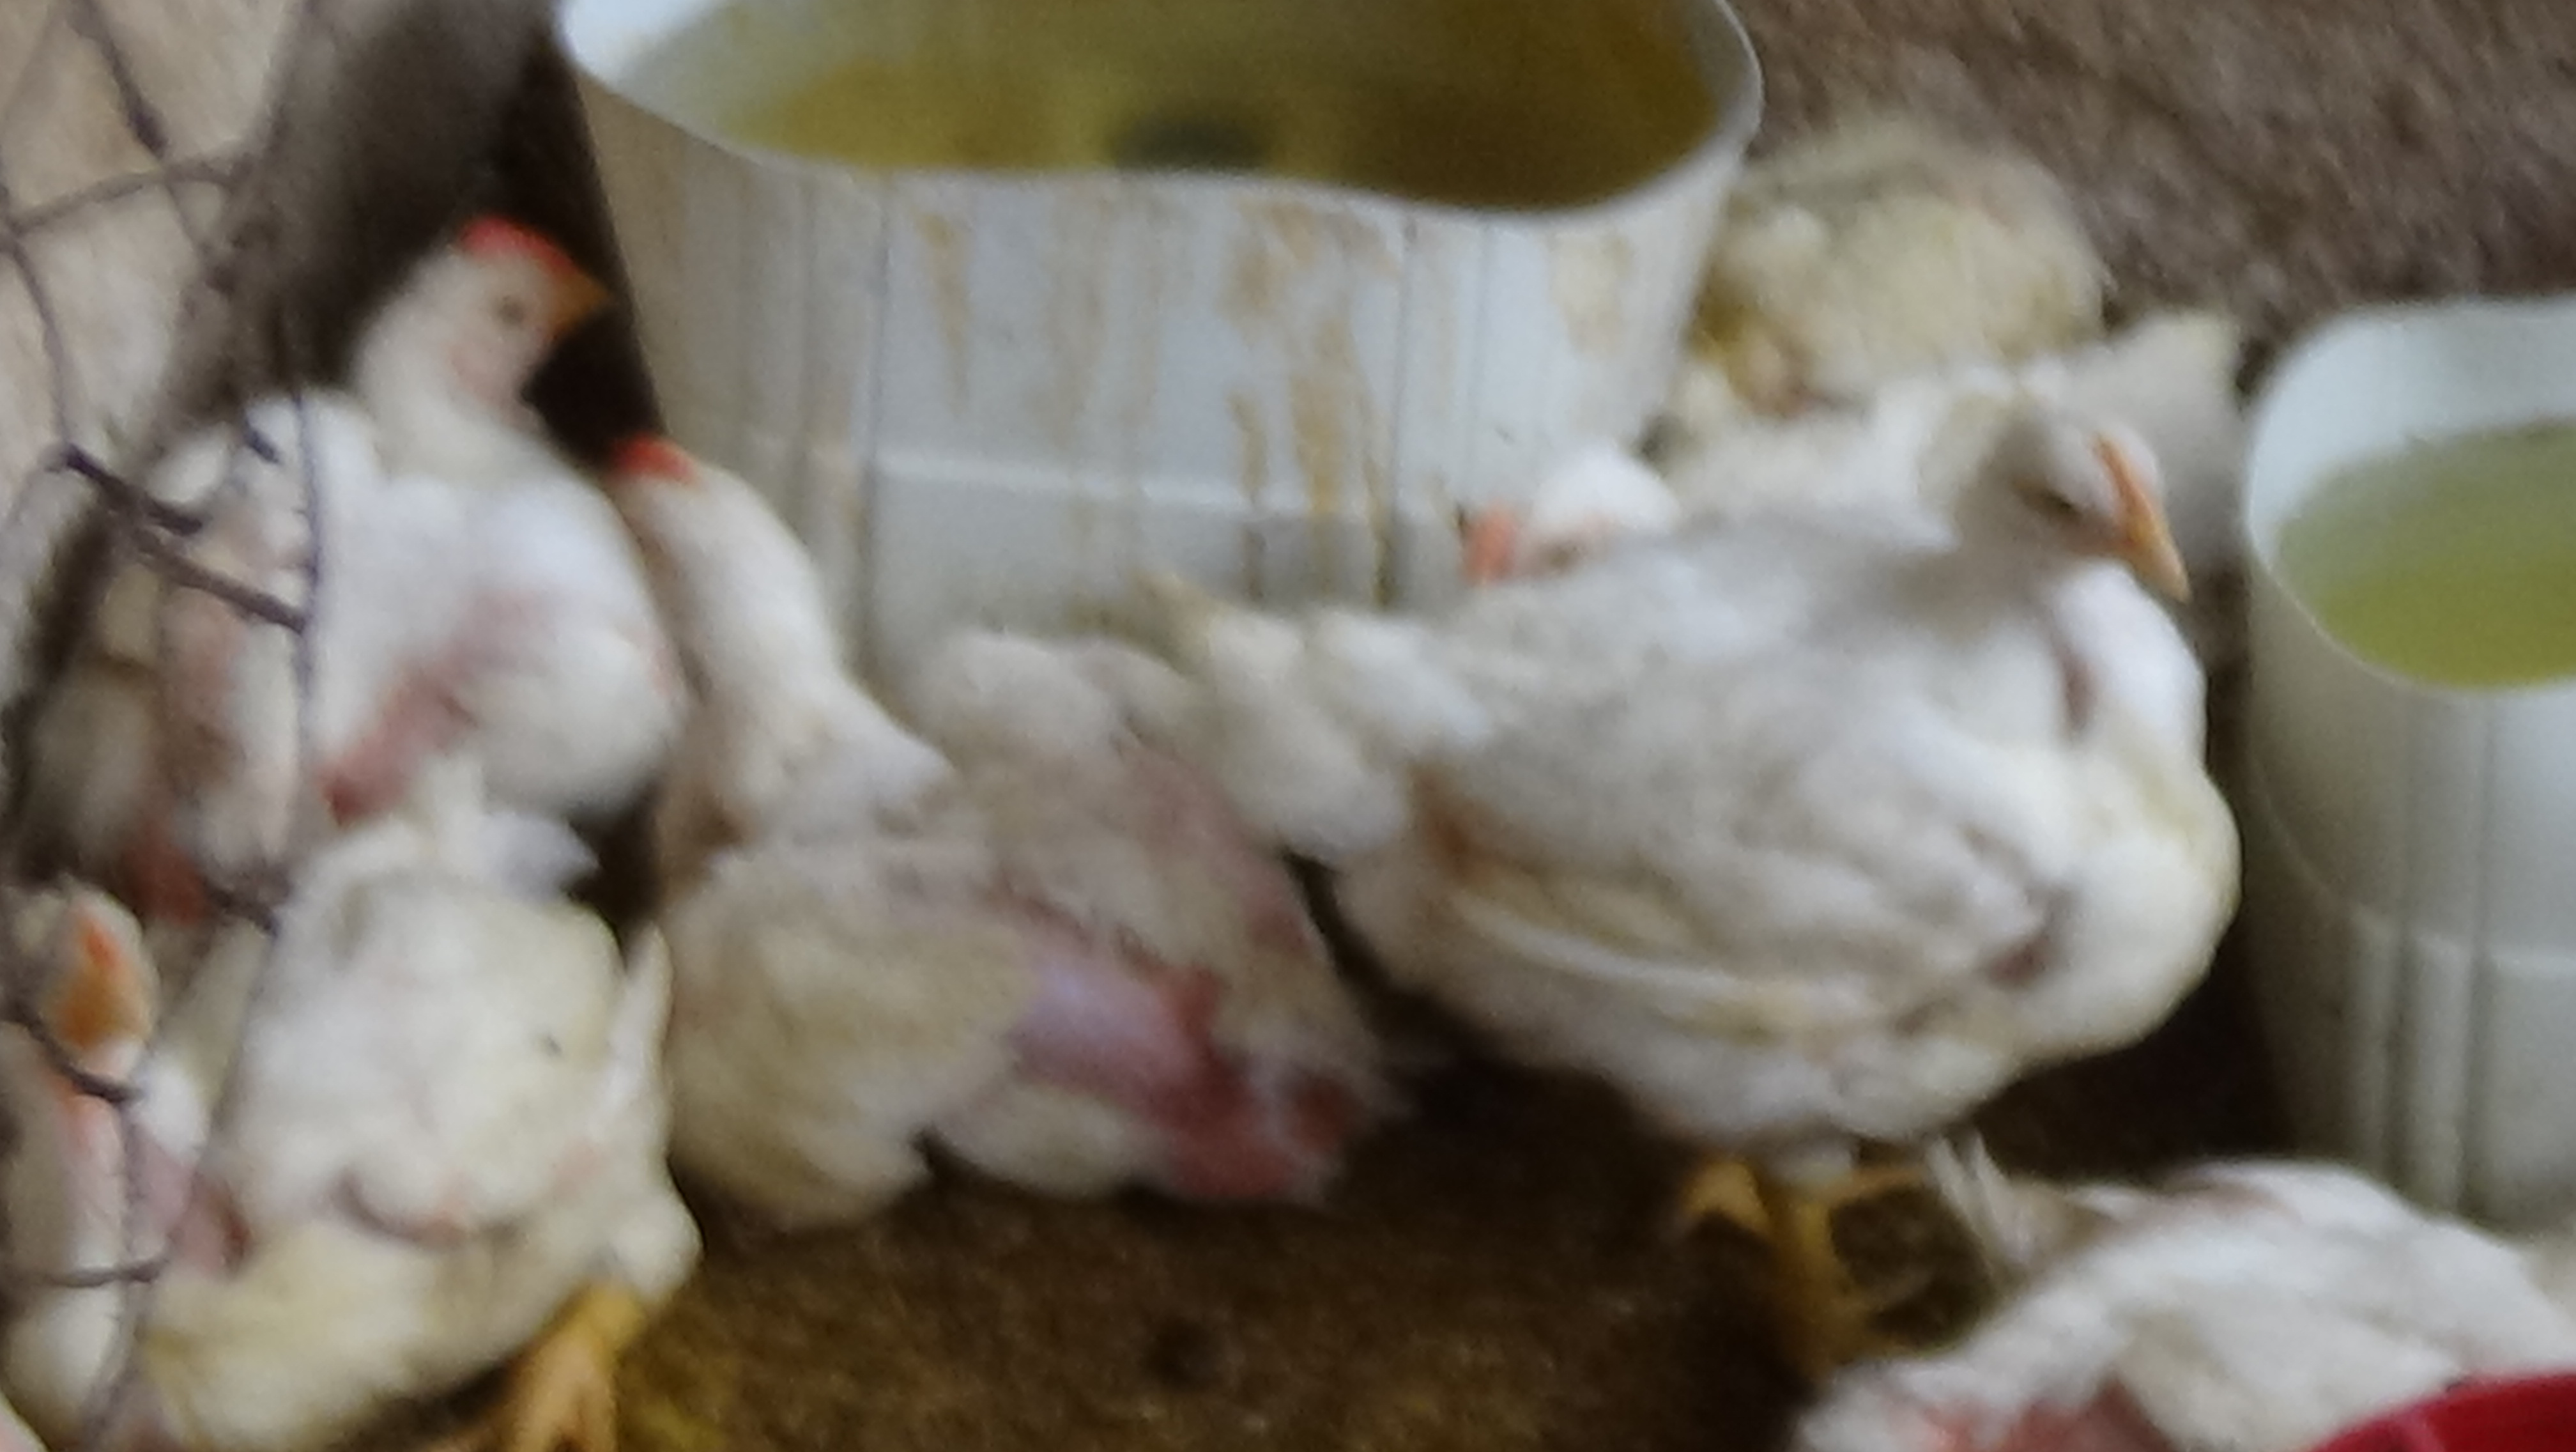Pollos: (1194, 404, 2236, 1333), (612, 420, 1405, 1227), (0, 765, 706, 1452), (30, 207, 656, 896)
